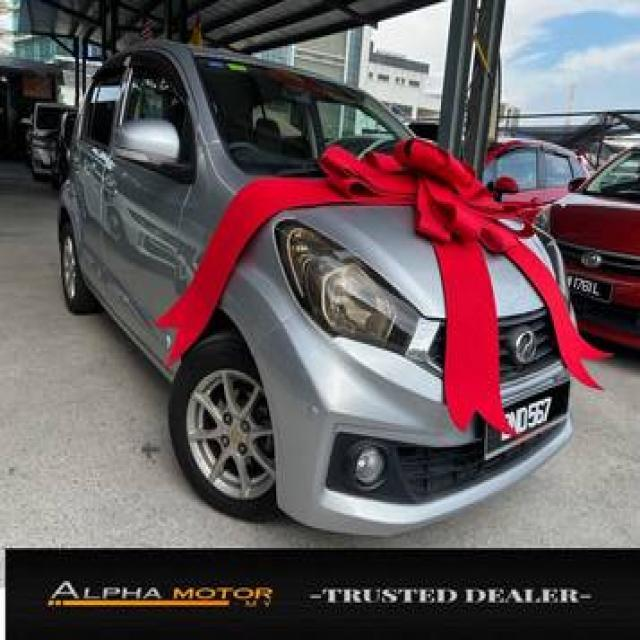PeroduaMyvi: (49, 35, 612, 535)
